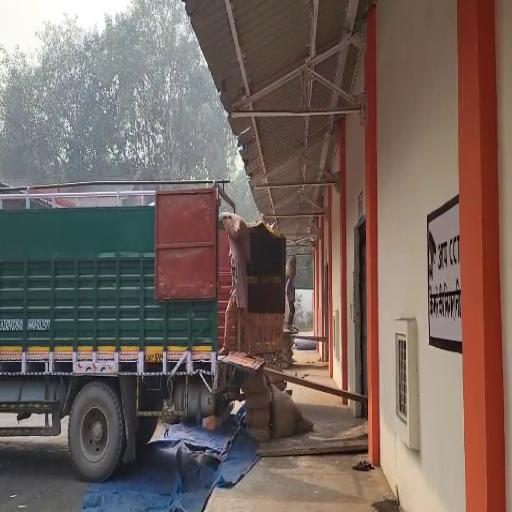bag: (218, 206, 252, 262)
